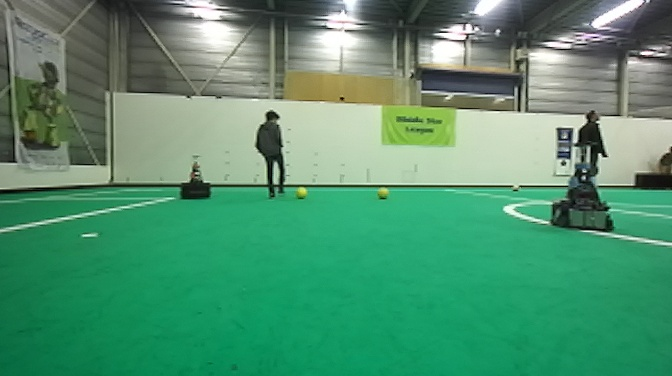ball: (375, 185, 390, 201), (294, 186, 309, 200), (509, 181, 521, 194)
human: (253, 109, 288, 199), (575, 110, 609, 196)
robot: (549, 139, 616, 232), (177, 153, 215, 201)
